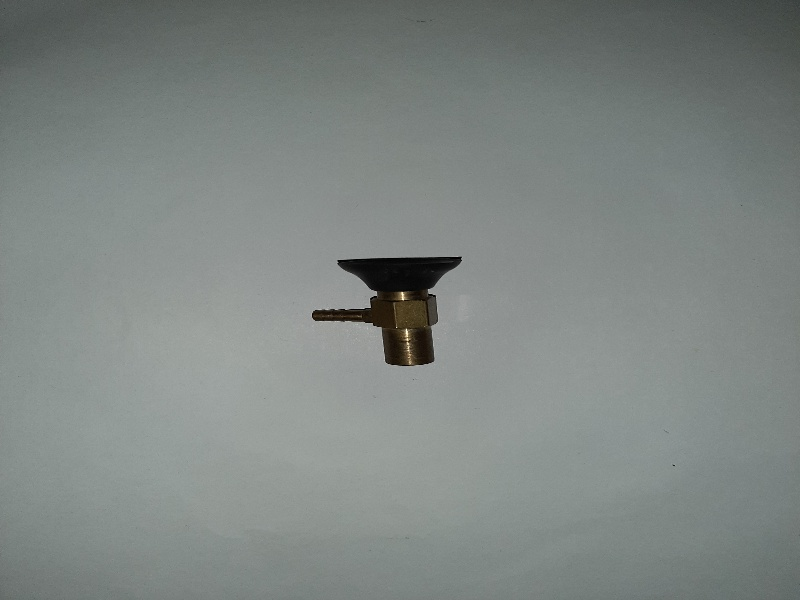Joint Hold: (309, 248, 466, 374)
